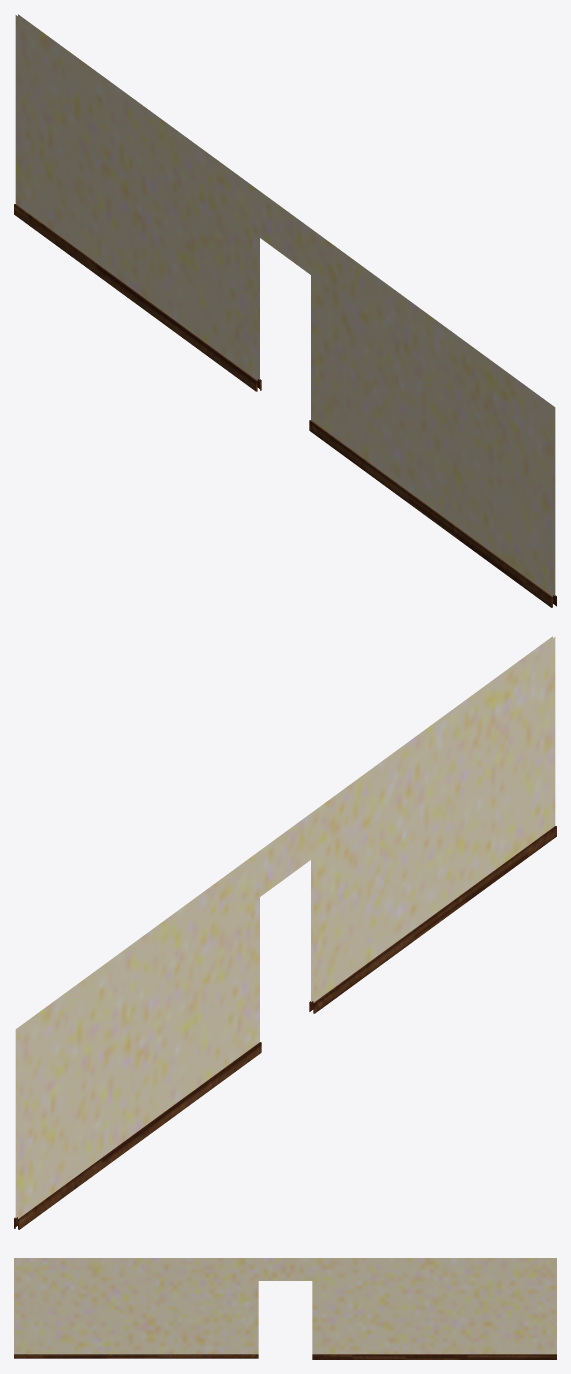
The model's file is SideWall 1.fbx.
3 views of the same model, one above another, from view 1: azimuth 30°, elevation 25°; view 2: azimuth 150°, elevation 25°; view 3: azimuth 270°, elevation 25° (orthographic). The views are drawn at different scales.
Visible parts, largest first — view 1: SideWall; view 2: SideWall; view 3: SideWall.
Part boxes in pixels (x1,y1,x2,y2): SideWall: (14,14,556,607); SideWall: (14,636,556,1229); SideWall: (14,1258,556,1359).
Bounding box in the file's own units: 5.88 × 205 × 1001.
